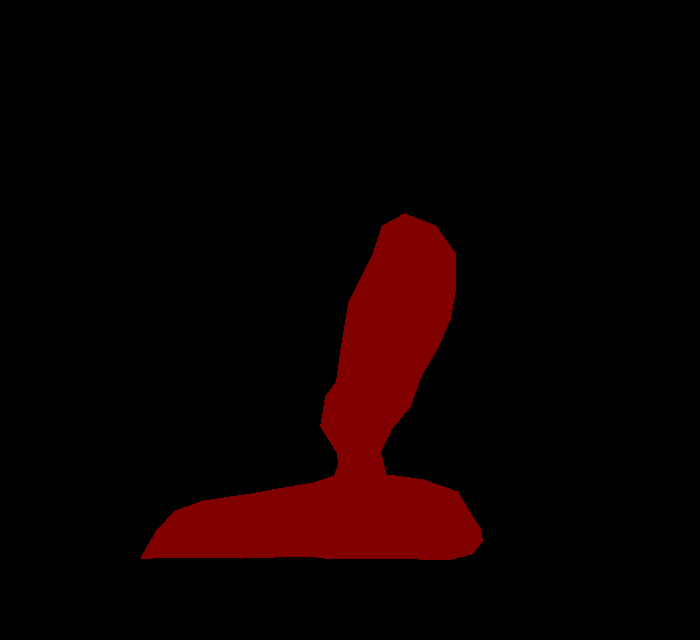fire: (140, 213, 482, 559)
